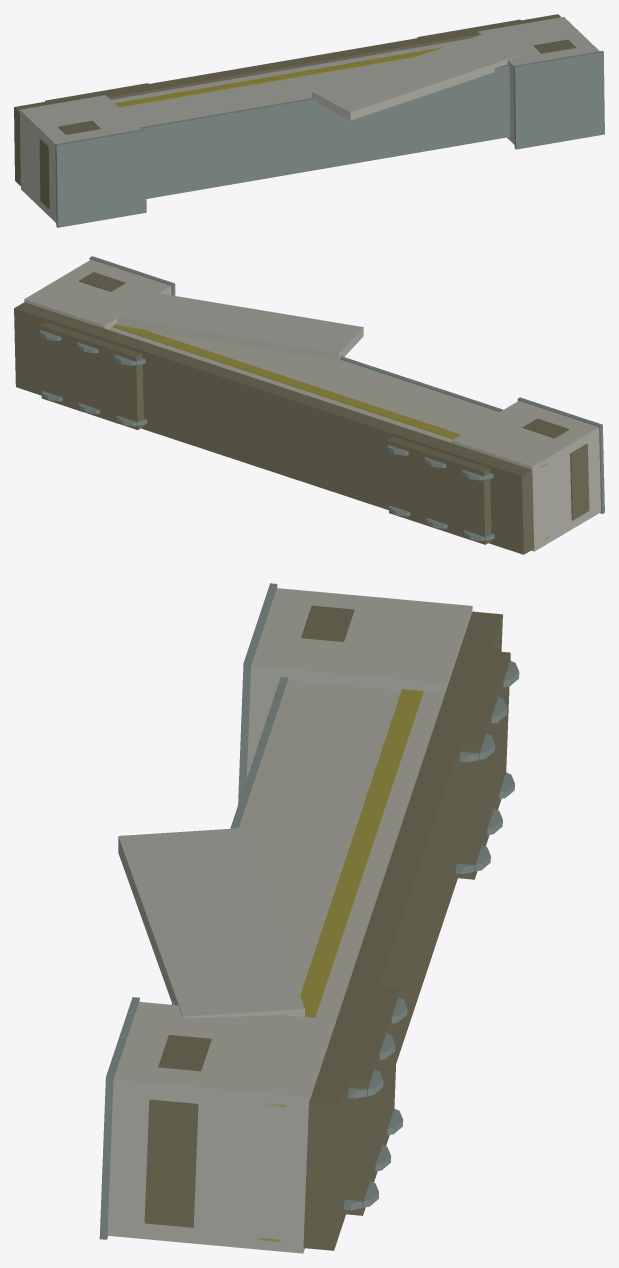
The model's file is SM_Locomotora_v2_Volcada_LOD0.fbx.
3 renders of one model, top to bottom at view 1: azimuth 30°, elevation 25°; view 2: azimuth 150°, elevation 25°; view 3: azimuth 270°, elevation 25°, orthographic. The views are drawn at different scales.
Visible parts, largest first — view 1: SM_aqui_paso_algo_v2_LOD0; view 2: SM_aqui_paso_algo_v2_LOD0; view 3: SM_aqui_paso_algo_v2_LOD0.
Part boxes in pixels (box(x1,y1,x2,y2)): SM_aqui_paso_algo_v2_LOD0: box(14, 14, 604, 227); SM_aqui_paso_algo_v2_LOD0: box(14, 256, 604, 554); SM_aqui_paso_algo_v2_LOD0: box(99, 583, 519, 1253).
Size of the model in its own units: 19.41 by 2.96 by 6.79.
